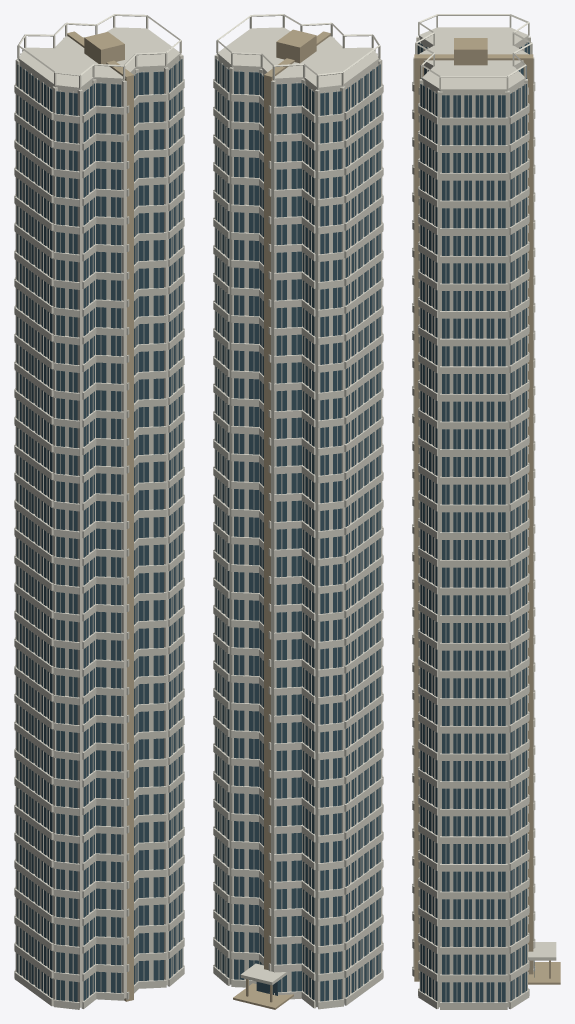
File: KOL_T1_URBANA__Tower_03.fbx
3 renders of one model, left to right at view 1: azimuth 30°, elevation 25°; view 2: azimuth 150°, elevation 25°; view 3: azimuth 270°, elevation 25°, orthographic.
Parts seen in each view (by area): view 1: KOL_T1_URBANA__Tower_03__KOL_T1_Pearl, KOL_T1_URBANA__Tower_03__KOL_T1_Glass, KOL_T1_URBANA__Tower_03__KOL_T1_Pearl.001, KOL_T1_URBANA__Tower_03__KOL_T1_Stone; view 2: KOL_T1_URBANA__Tower_03__KOL_T1_Pearl, KOL_T1_URBANA__Tower_03__KOL_T1_Glass, KOL_T1_URBANA__Tower_03__KOL_T1_Pearl.001, KOL_T1_URBANA__Tower_03__KOL_T1_Stone; view 3: KOL_T1_URBANA__Tower_03__KOL_T1_Pearl, KOL_T1_URBANA__Tower_03__KOL_T1_Glass, KOL_T1_URBANA__Tower_03__KOL_T1_Stone, KOL_T1_URBANA__Tower_03__KOL_T1_Pearl.001.
Part boxes in pixels (x1,y1,x2,y2): KOL_T1_URBANA__Tower_03__KOL_T1_Pearl: [14, 37, 184, 1009]; KOL_T1_URBANA__Tower_03__KOL_T1_Glass: [17, 59, 182, 1001]; KOL_T1_URBANA__Tower_03__KOL_T1_Pearl.001: [14, 14, 184, 234]; KOL_T1_URBANA__Tower_03__KOL_T1_Stone: [67, 31, 133, 1001]; KOL_T1_URBANA__Tower_03__KOL_T1_Pearl: [213, 37, 383, 1009]; KOL_T1_URBANA__Tower_03__KOL_T1_Glass: [215, 59, 380, 1001]; KOL_T1_URBANA__Tower_03__KOL_T1_Pearl.001: [213, 14, 383, 985]; KOL_T1_URBANA__Tower_03__KOL_T1_Stone: [233, 29, 330, 1009]; KOL_T1_URBANA__Tower_03__KOL_T1_Pearl: [412, 36, 535, 1009]; KOL_T1_URBANA__Tower_03__KOL_T1_Glass: [417, 42, 534, 1002]; KOL_T1_URBANA__Tower_03__KOL_T1_Stone: [414, 38, 560, 984]; KOL_T1_URBANA__Tower_03__KOL_T1_Pearl.001: [412, 14, 556, 960].
Size of the model in its own units: 50.8 by 339 by 48.68.
